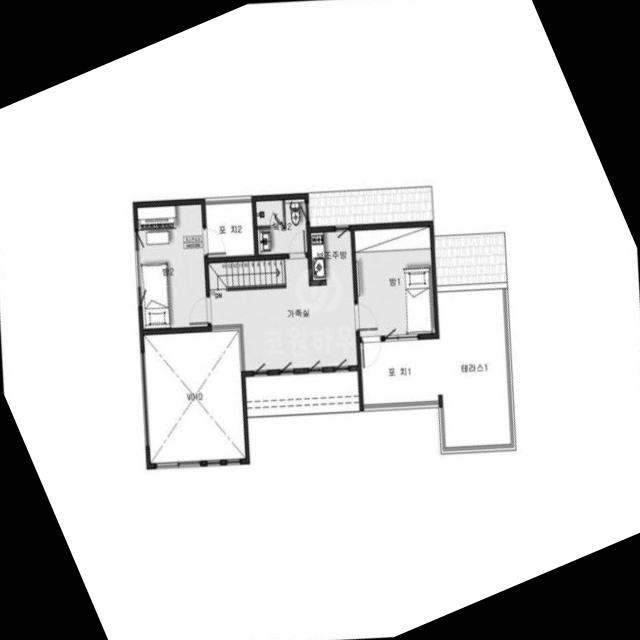background: (0, 0, 640, 640)
space_balconi: (360, 289, 513, 450), (205, 199, 254, 257)
space_bedroom: (354, 226, 435, 337), (137, 204, 207, 330)
space_kitchen: (310, 231, 352, 285)
space_living_room: (209, 258, 357, 370)
space_other: (143, 330, 245, 463)
space_staircase: (208, 259, 285, 289)
space_toilet: (256, 199, 307, 255)
